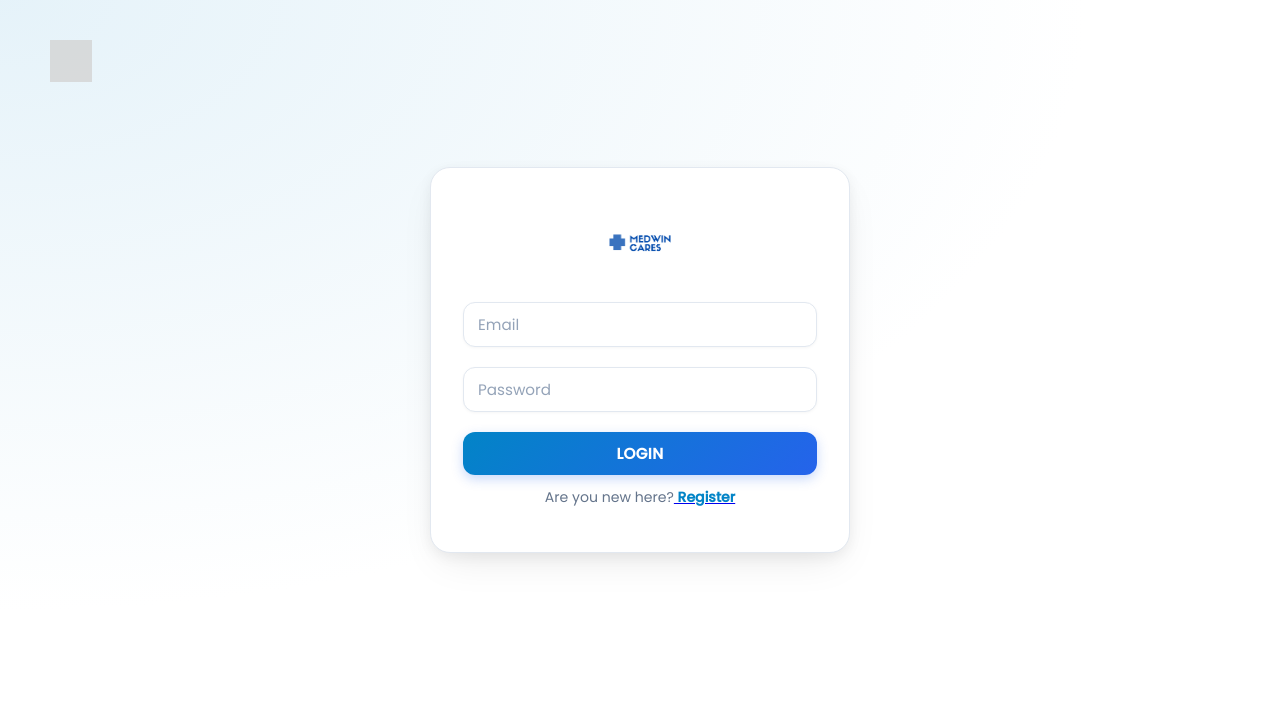
Scenario: Nurse & Pharmacist Authentication and Navigation › Nurse Workflow › completes nurse sign in and lands on Nurse Home dashboard
This screenshot has width=1280, height=720.
In the field with placeholder "Email": (640, 325) [463,302,817,347], type "florence@example.com"
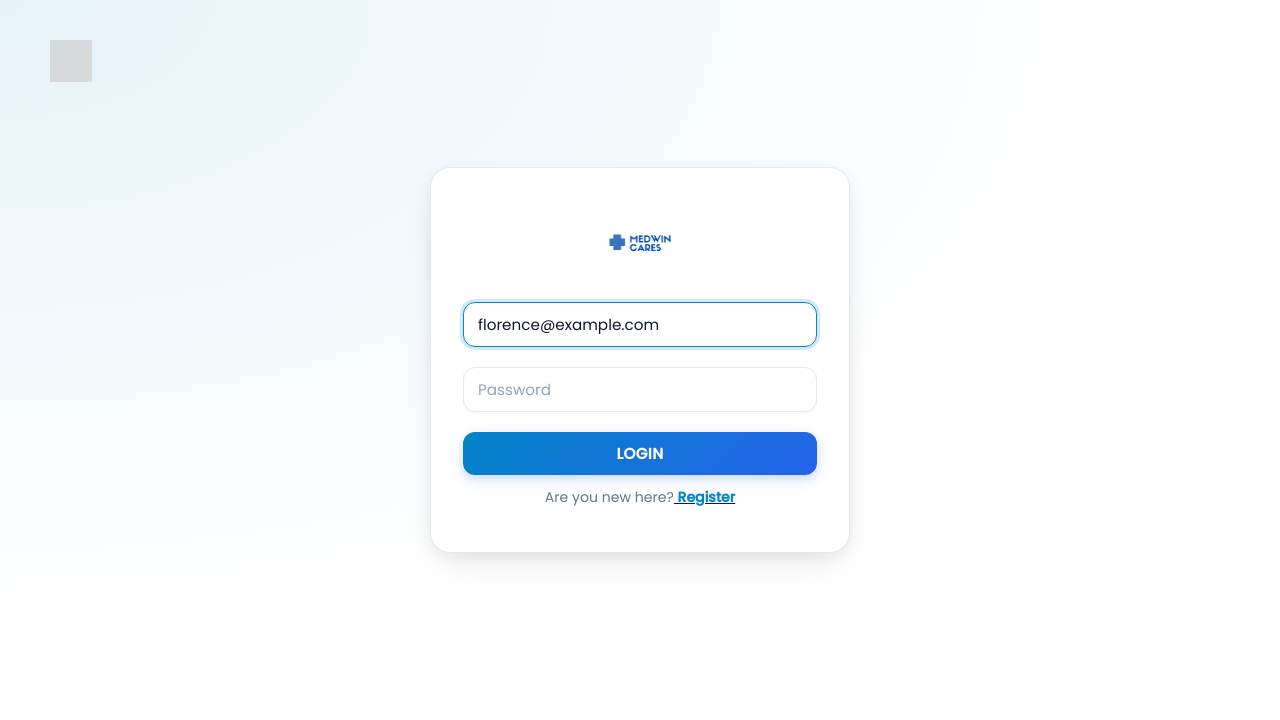
In the password field with placeholder "Password": (640, 390) [463,367,817,412], type "password123"
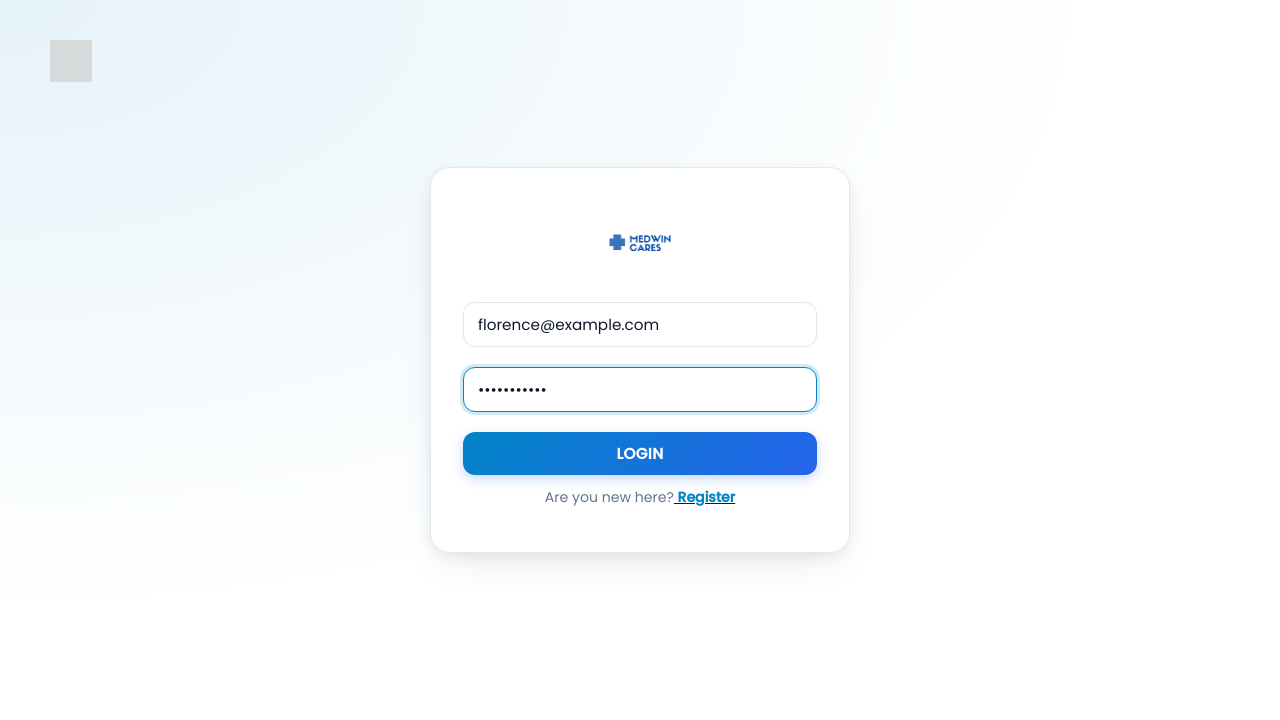
Click the submit button: click(640, 454) [463,432,817,475]
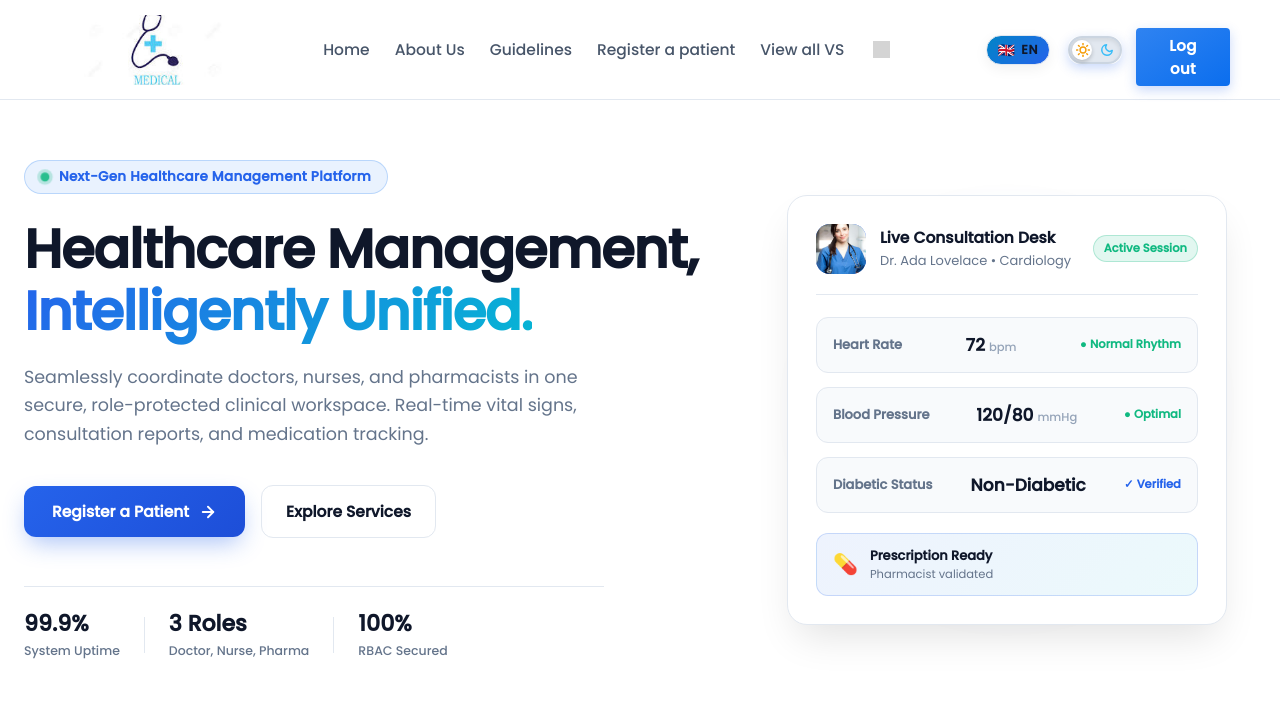
Check: the element with class "navbarNurse" is shown, box [0,0,1279,100]
Check: the button "Log out" is shown, box [1136,28,1230,86]
